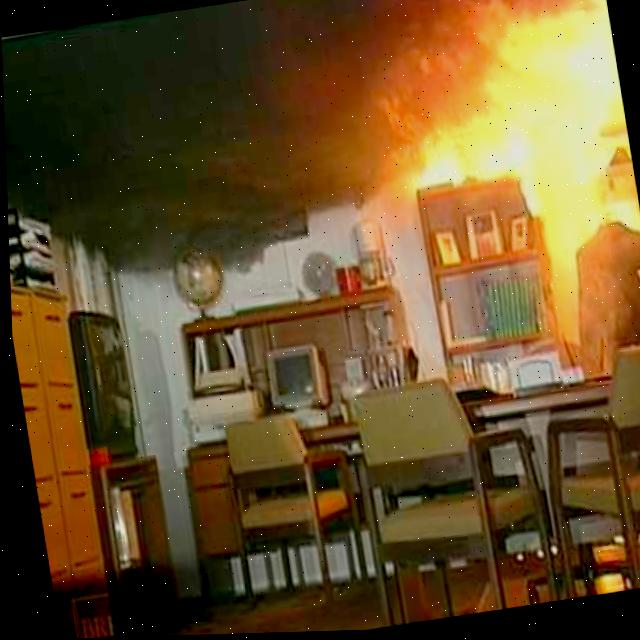fire: (421, 0, 640, 353)
smoke: (262, 0, 587, 225)
